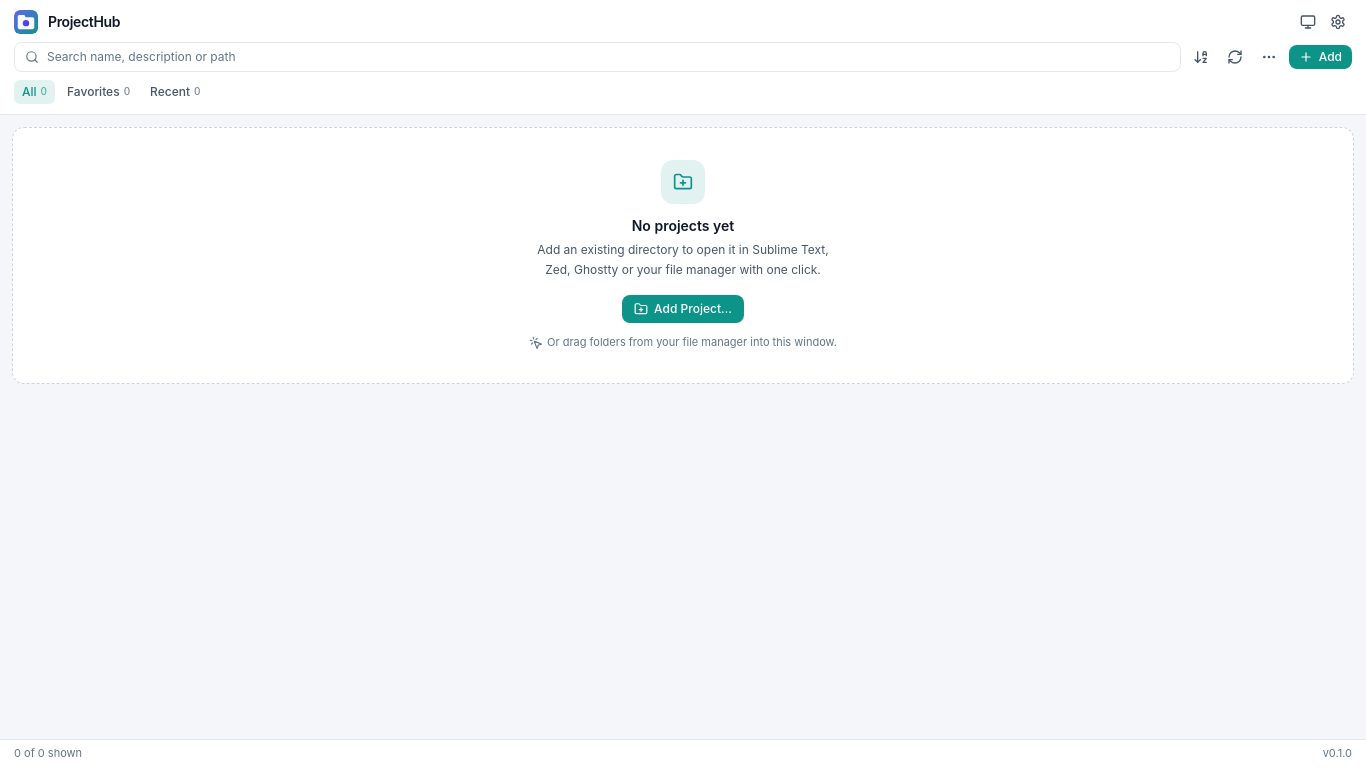
Test: App › Add chooses a directory then prefills the Add Project dialog
Click the button with aria-label "Add project". click: (1320, 57)
box: [1289,45,1352,69]
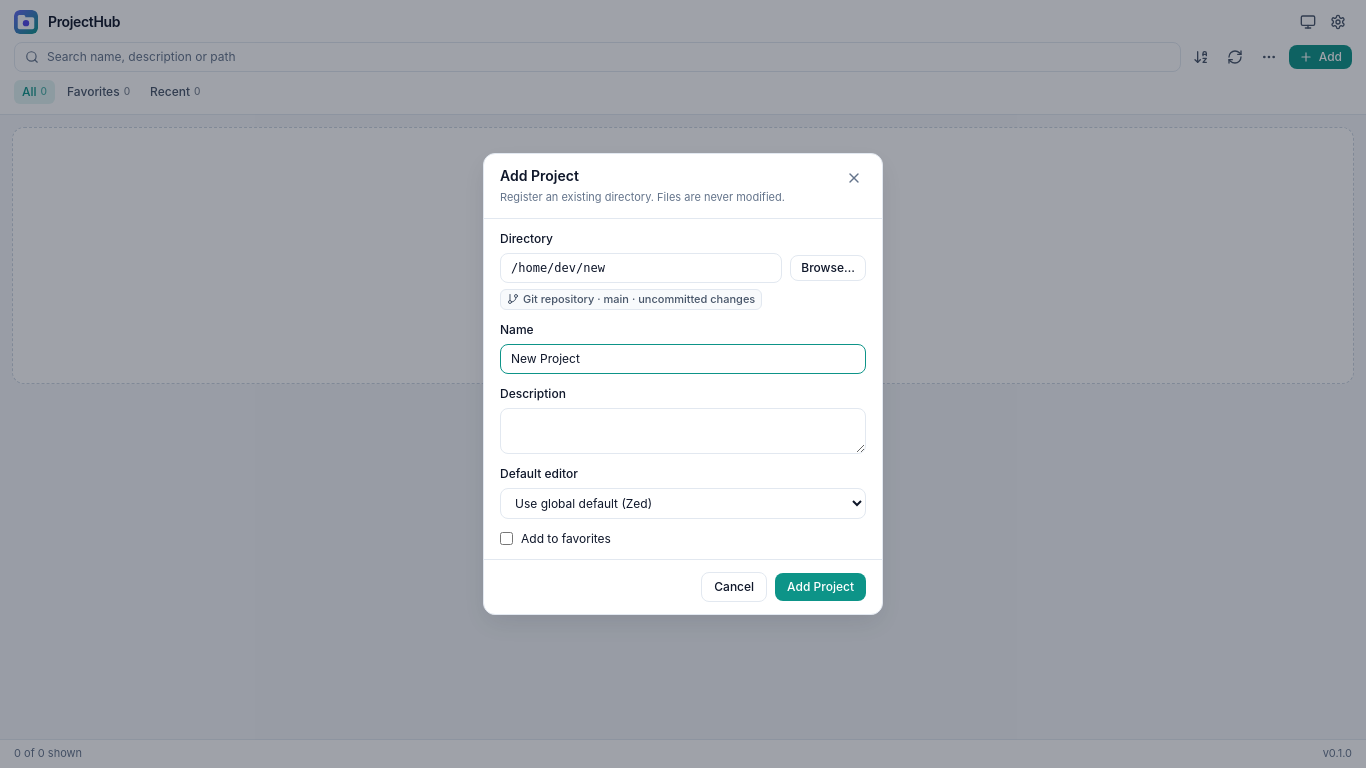
Now the dialog shows "Add Project", box [500,167,579,184]
